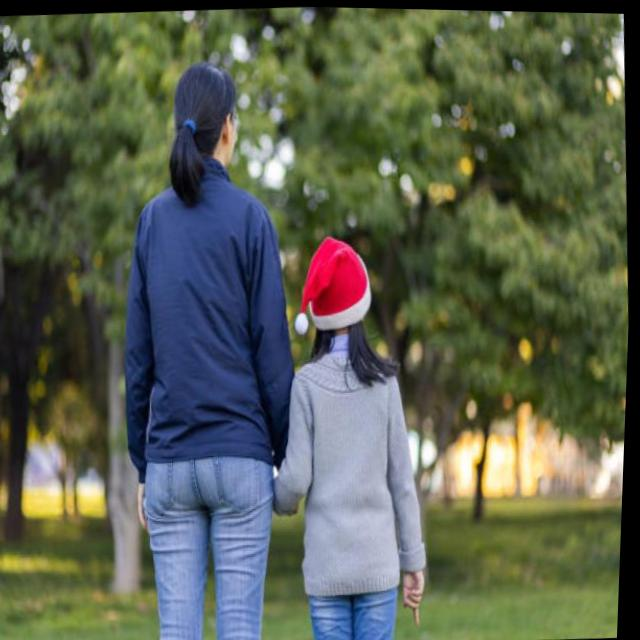no helmet: (164, 48, 244, 178)
